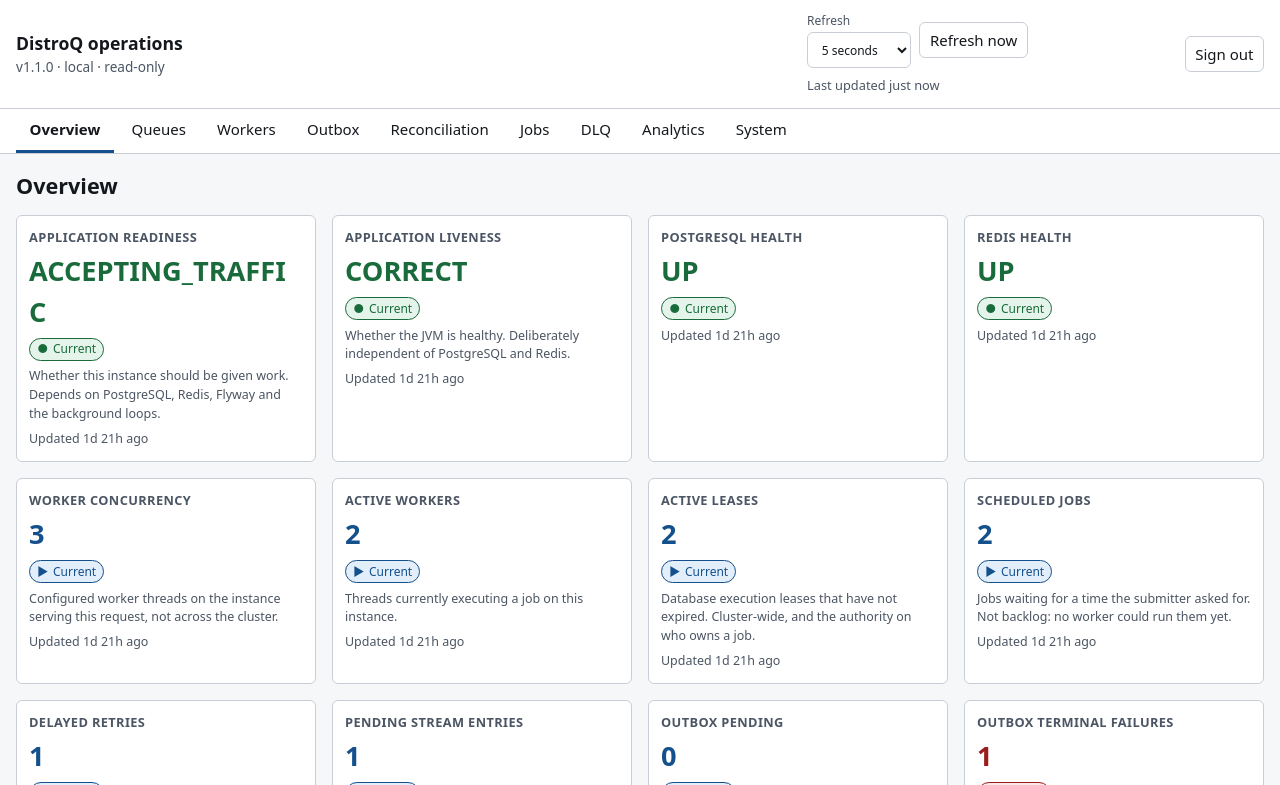
Test: App shell › signs out on request
This screenshot has width=1280, height=785.
Expected: the navigation bar named "Dashboard sections" is shown, [0,109,1279,154]
Click the button "Sign out".
click(1224, 54)  # box [1184,36,1264,72]
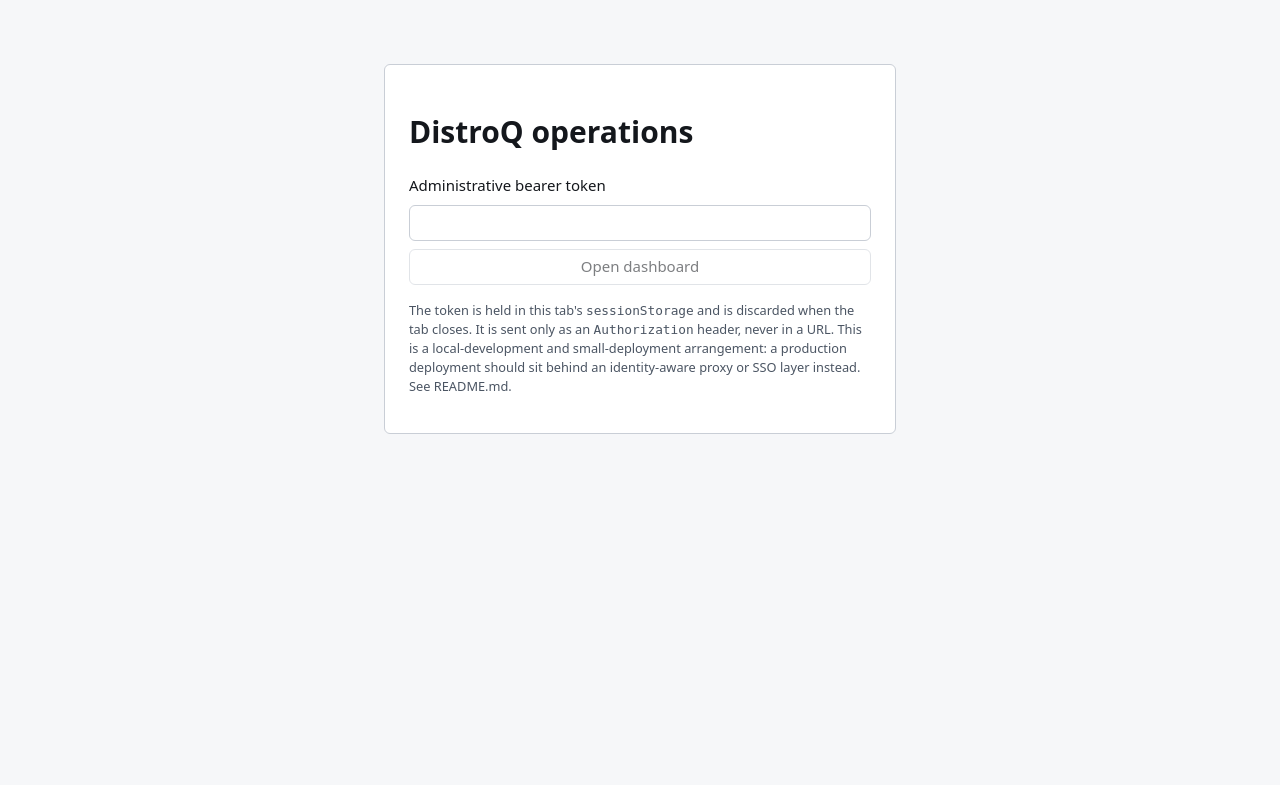
Now the password field labelled "Administrative bearer token" is shown, box [409,205,871,241]
